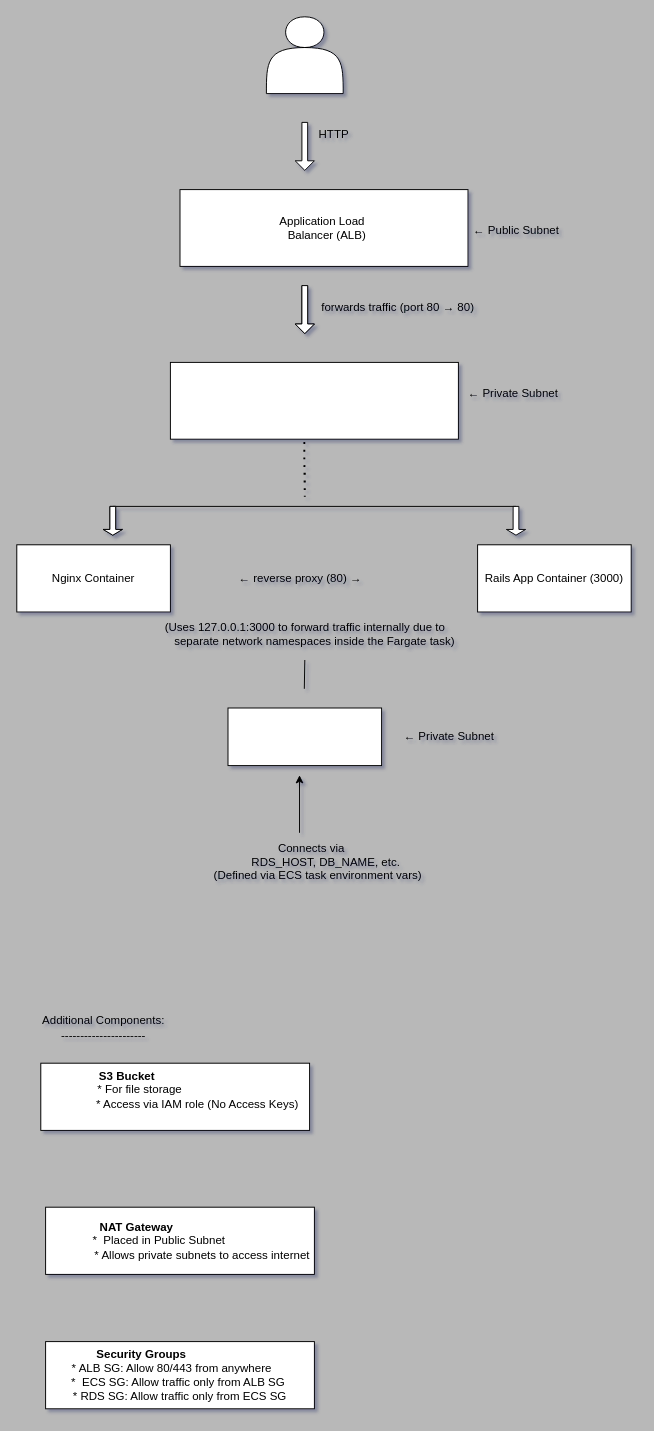
Some shapes in this 654 by 1431 pixel diagram are drawn without their labels. Each missing label, with the centre of its shape:
"ECS Fargate Task (Same task, 2 containers)" belongs at point 313,400.
"RDS (Postgres)" belongs at point 304,736.
"User" belongs at point 304,55.
